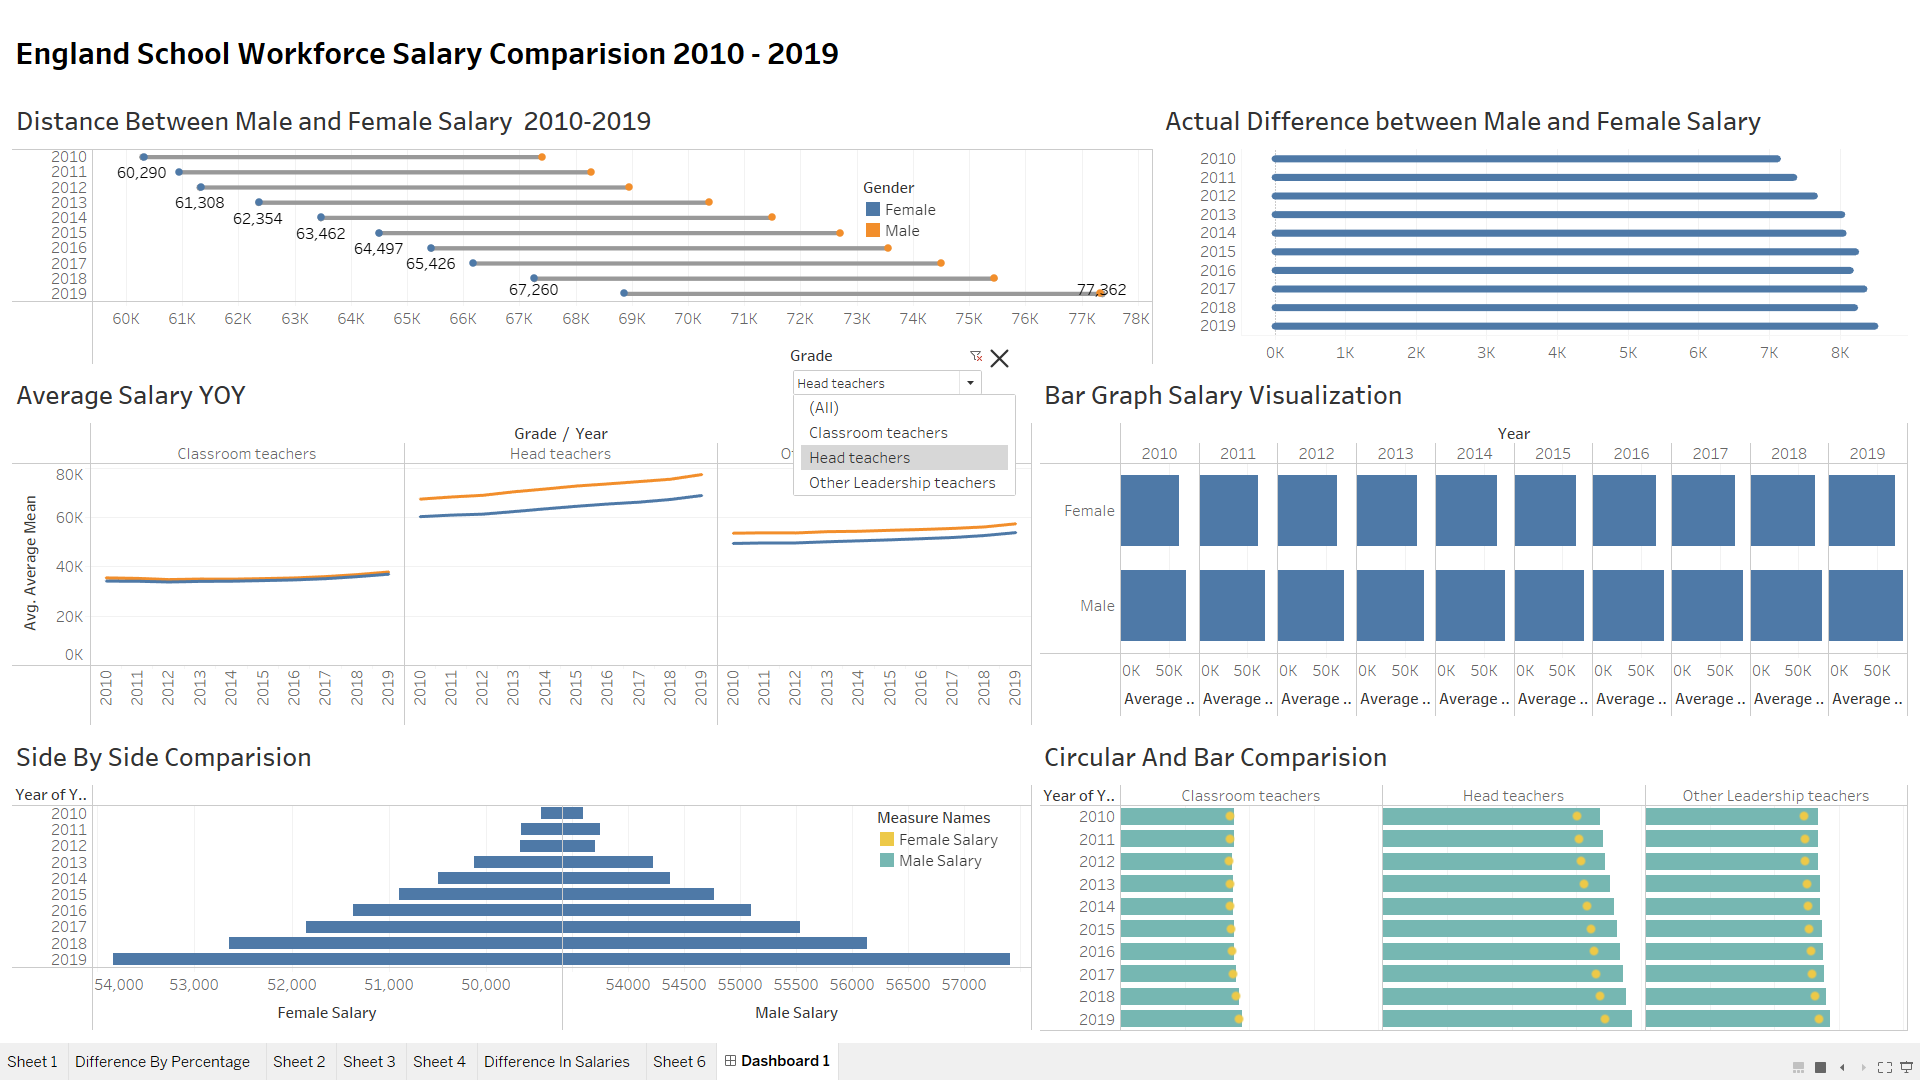

The dashboard page shown, as its layout file describes it:
{"tool":"tableau","page":{"name":"Dashboard 1","canvas":[1000,1000],"units":"permille","ordinal":0},"visuals":[{"type":"text","box":[4.8,8.8,990.3,95.5]},{"type":"dashboard-object","box":[941.5,80.1,14.5,26.3]},{"type":"filter","title":"Difference In Salaries","param":"[federated.0b0azmt1gkis8a16qjfa11jrmof5].[none:grade:nk]","box":[838.9,91.1,101.4,76.8]},{"type":"worksheet","title":"Sheet 4","mark":"Automatic","rows":["Calculation_684265717785427971"],"cols":["average_mean","average_mean"],"box":[4.8,104.3,534.7,250]},{"type":"worksheet","title":"Difference In Salaries","mark":"Line","rows":["Calculation_684265717785427971"],"box":[539.5,104.3,455.6,250]},{"type":"legend","title":"Sheet 4","param":"[federated.0b0azmt1gkis8a16qjfa11jrmof5].[none:gender:nk]","box":[407.4,162.5,84.5,70.2]},{"type":"worksheet","title":"Sheet 1","mark":"Automatic","rows":["average_mean"],"cols":["grade","Calculation_684265717785427971"],"box":[4.8,354.3,534.6,345.8]},{"type":"worksheet","title":"Sheet 6","mark":"Bar","rows":["gender"],"cols":["Calculation_684265717785427971","average_mean"],"box":[539.5,354.3,455.7,345.8]},{"type":"worksheet","title":"Sheet 3","mark":"Bar","rows":["Calculation_684265717785427971"],"cols":["Calculation_684265717814575110","Calculation_684265717811085316"],"box":[4.8,700.2,534.6,291.1]},{"type":"worksheet","title":"Sheet 2","mark":"Bar","rows":["Calculation_684265717785427971"],"cols":["grade","Calculation_684265717811085316","Calculation_684265717811281925"],"box":[539.5,700.2,455.7,291.1]},{"type":"legend","title":"Sheet 2","param":"[federated.0b0azmt1gkis8a16qjfa11jrmof5].[:Measure Names]","box":[456.2,738.8,88.7,77.9]}]}

Visuals, with their boxes on the dashboard's canvas, which has no fixed pixel size, in thousandths of its width and height (x1, y1, x2, y2). These are canvas units, not pixel positions in the 1920x1080 screenshot, which may show the page scaled, cropped or inside an application window:
text: 5, 9, 995, 104
dashboard-object: 942, 80, 956, 106
"Difference In Salaries" filter: 839, 91, 940, 168
"Sheet 4" worksheet: 5, 104, 540, 354
"Difference In Salaries" worksheet (Line marks): 540, 104, 995, 354
"Sheet 4" legend: 407, 162, 492, 233
"Sheet 1" worksheet: 5, 354, 539, 700
"Sheet 6" worksheet (Bar marks): 540, 354, 995, 700
"Sheet 3" worksheet (Bar marks): 5, 700, 539, 991
"Sheet 2" worksheet (Bar marks): 540, 700, 995, 991
"Sheet 2" legend: 456, 739, 545, 817
